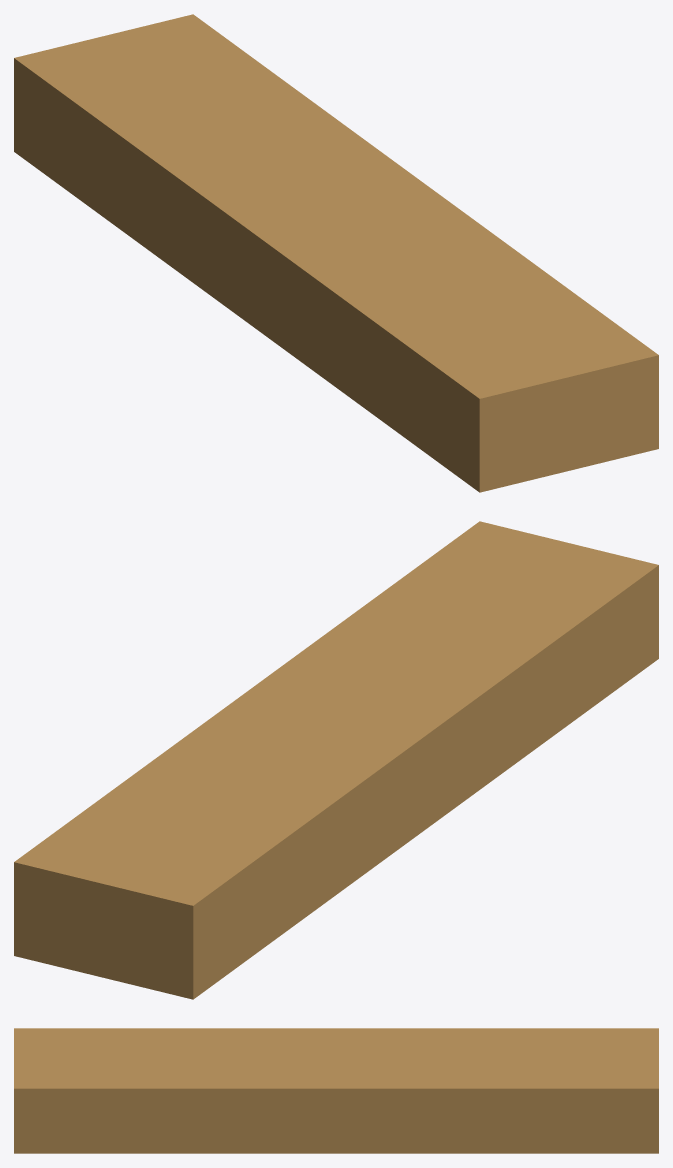
3 renders of one model, top to bottom at view 1: azimuth 30°, elevation 25°; view 2: azimuth 150°, elevation 25°; view 3: azimuth 270°, elevation 25°, orthographic. The views are drawn at different scales.
Parts seen in each view (by area): view 1: RUN-084-S00-NOG-08; view 2: RUN-084-S00-NOG-08; view 3: RUN-084-S00-NOG-08.
Part boxes in pixels (<box>): RUN-084-S00-NOG-08: <box>14,14,658,492</box>; RUN-084-S00-NOG-08: <box>14,521,658,999</box>; RUN-084-S00-NOG-08: <box>14,1028,658,1153</box>.
Size of the model in its own units: 0.09 by 0.045 by 0.405.
